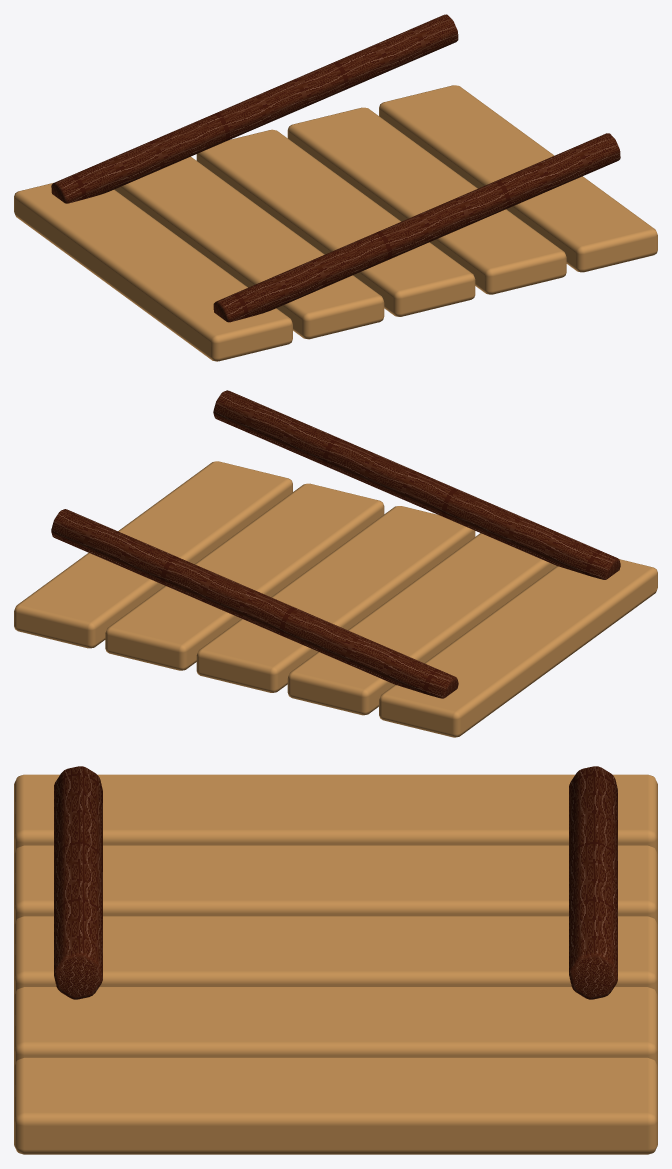
The model's file is bridge.glb.
The picture shows the model from 3 angles, top to bottom: view 1: azimuth 30°, elevation 25°; view 2: azimuth 150°, elevation 25°; view 3: azimuth 270°, elevation 25°; orthographic projection. The views are drawn at different scales.
Visible parts, largest first — view 1: bridge_wood_light, bridge_wood; view 2: bridge_wood_light, bridge_wood; view 3: bridge_wood_light, bridge_wood.
Boxes of the visible parts, left/top/right/bottom form: bridge_wood_light: left=14, top=85, right=657, bottom=361; bridge_wood: left=51, top=14, right=620, bottom=322; bridge_wood_light: left=14, top=461, right=657, bottom=737; bridge_wood: left=51, top=390, right=620, bottom=698; bridge_wood_light: left=14, top=774, right=657, bottom=1154; bridge_wood: left=54, top=766, right=617, bottom=999.
Size of the model in its own units: 3.18 by 0.7807 by 2.5.
Materials: 2 (1 with a texture image).
